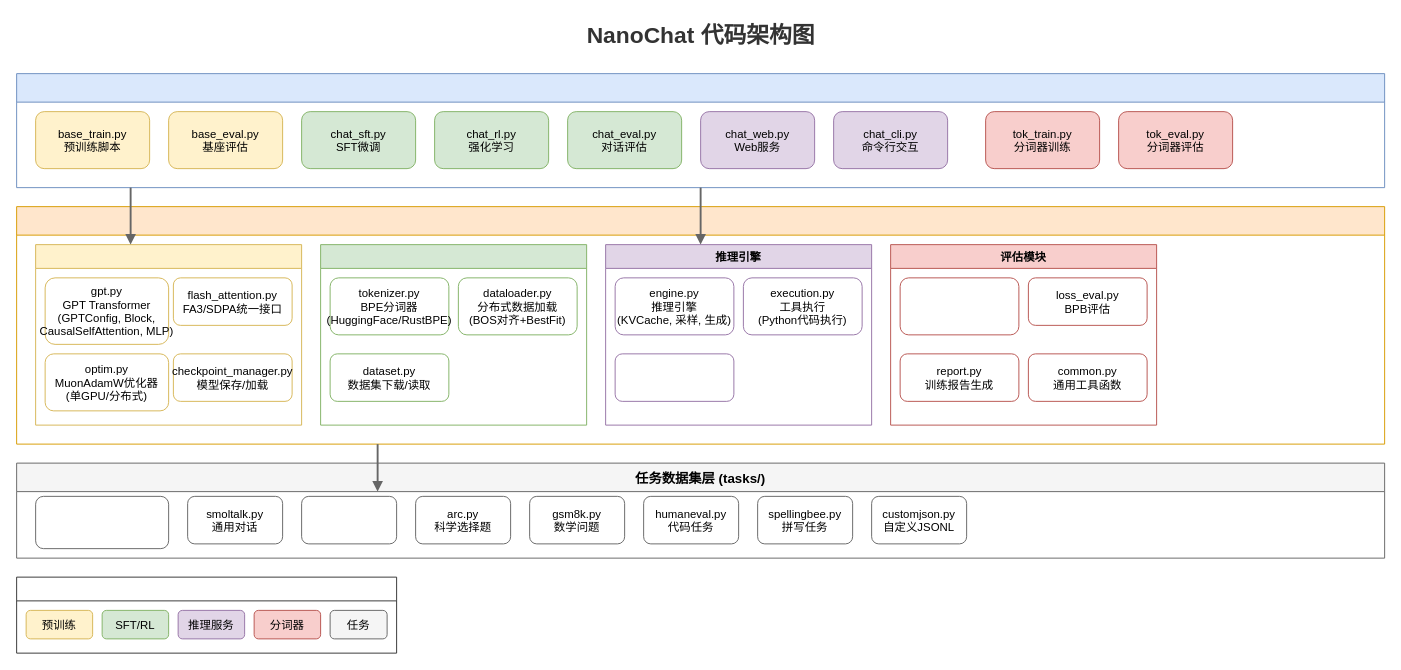
Some shapes in this 1401 by 670 pixel diagram are drawn without their labels. Each missing label, with the box of its shape:
common.py Task基类 TaskMixture/Sequence: (35, 495, 169, 549)
core_eval.py CORE评分 (DCLM基准): (899, 277, 1019, 335)
mmlu.py 多领域选择题: (301, 495, 397, 544)
ui.html Web UI前端: (614, 353, 734, 401)
入口脚本层 (scripts/): (16, 73, 1385, 188)
图例: (16, 576, 397, 653)
数据处理: (320, 244, 587, 425)
核心模块层 (nanochat/): (16, 206, 1385, 444)
模型架构: (35, 244, 302, 425)
